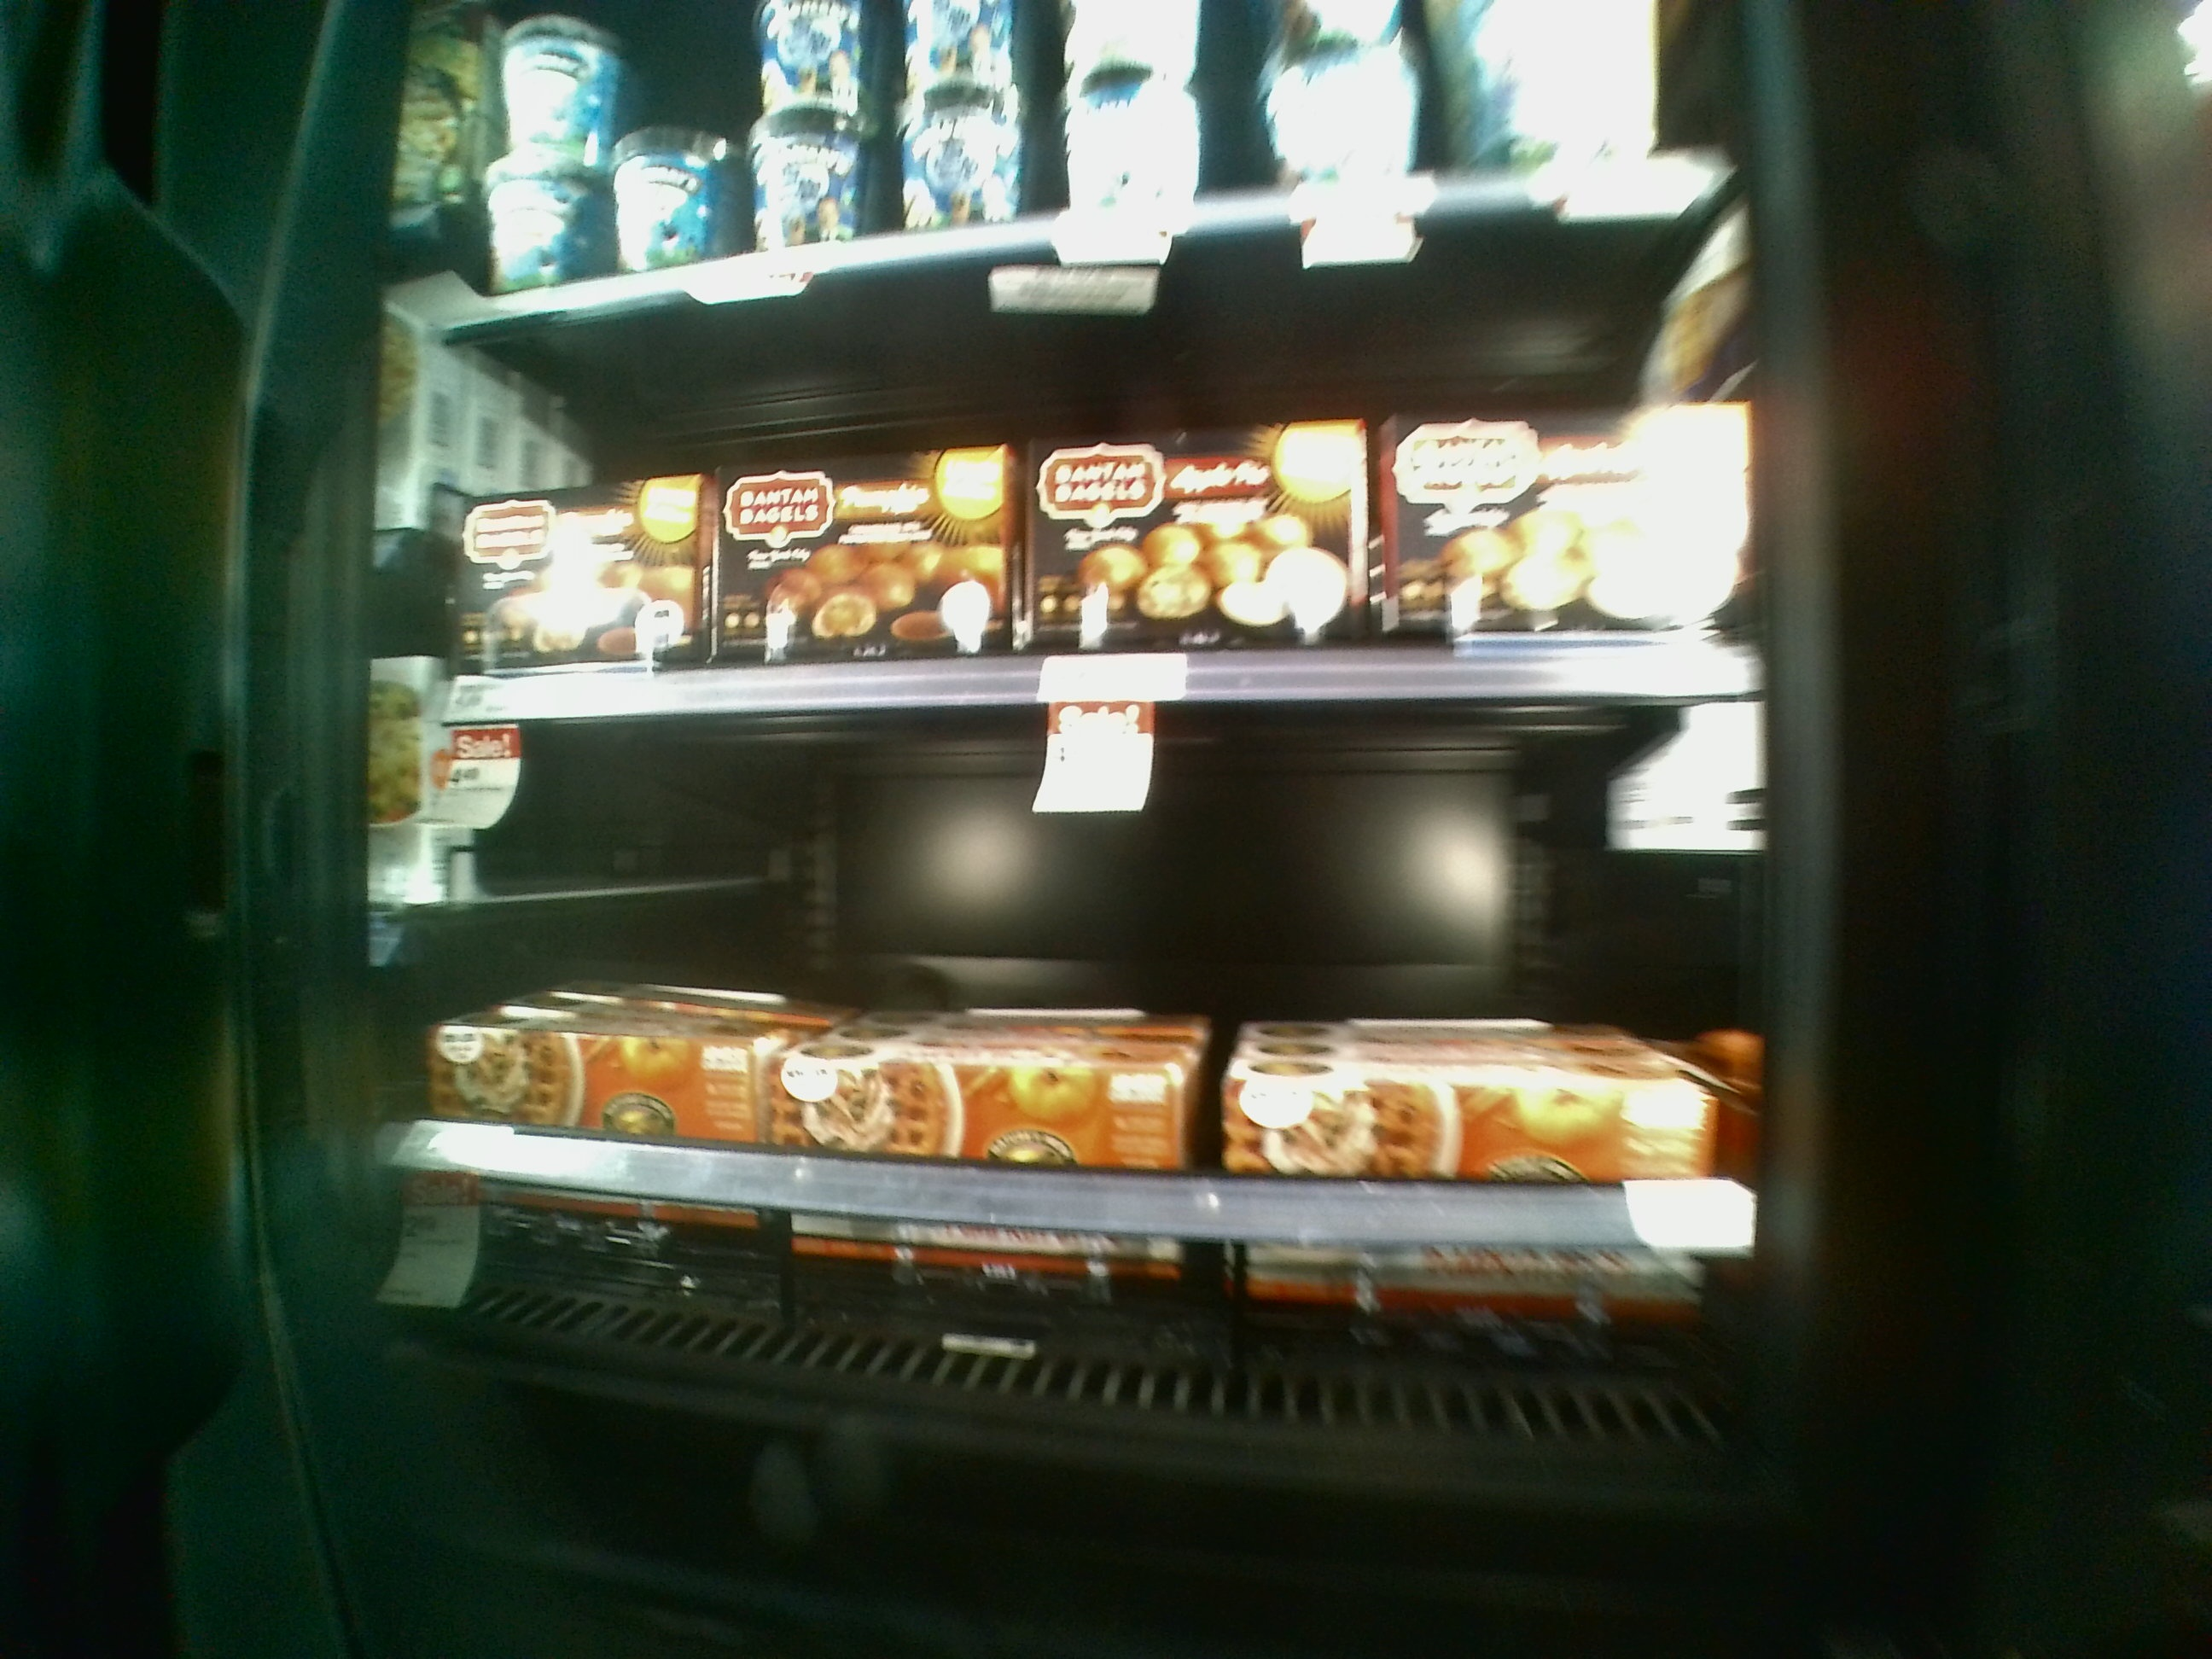shelf: (423, 690, 1768, 1469), (415, 268, 1735, 695)
